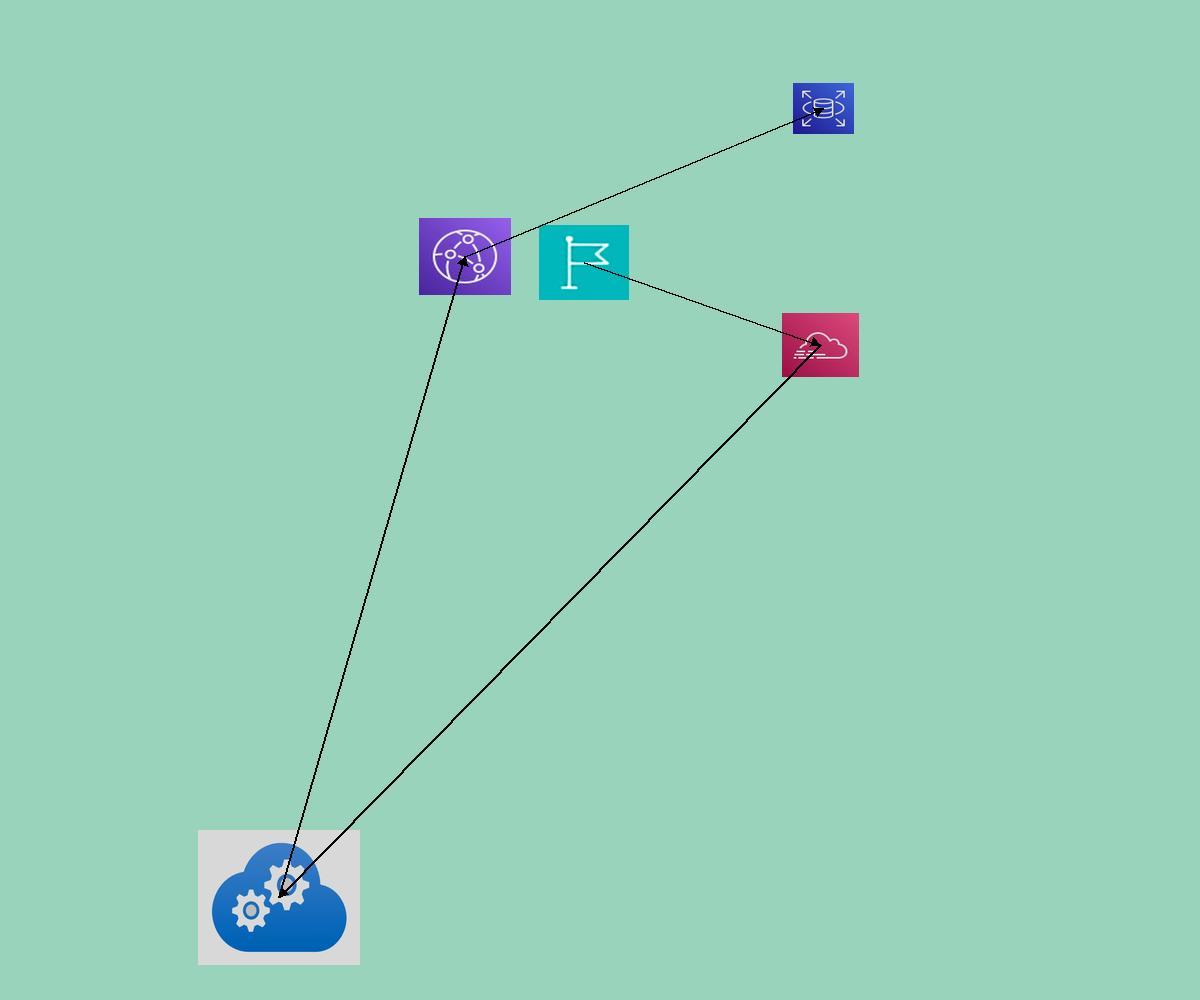AWS-CloudFront: (419, 218, 511, 295)
AWS-CloudTrail: (782, 313, 859, 377)
AWS-RDS: (793, 83, 854, 134)
AWS-Region: (539, 225, 629, 300)
Azure_cloud_services: (198, 830, 360, 965)
